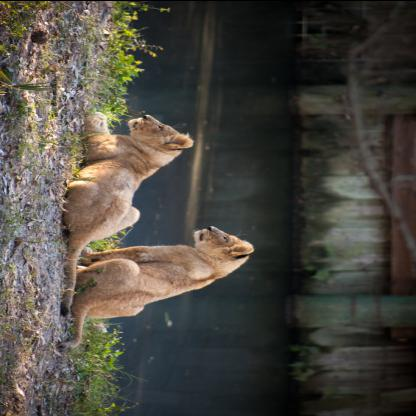lion: (188, 223, 260, 265), (126, 112, 197, 152)
